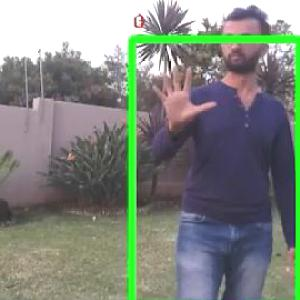follow_hand: (148, 60, 218, 127)
